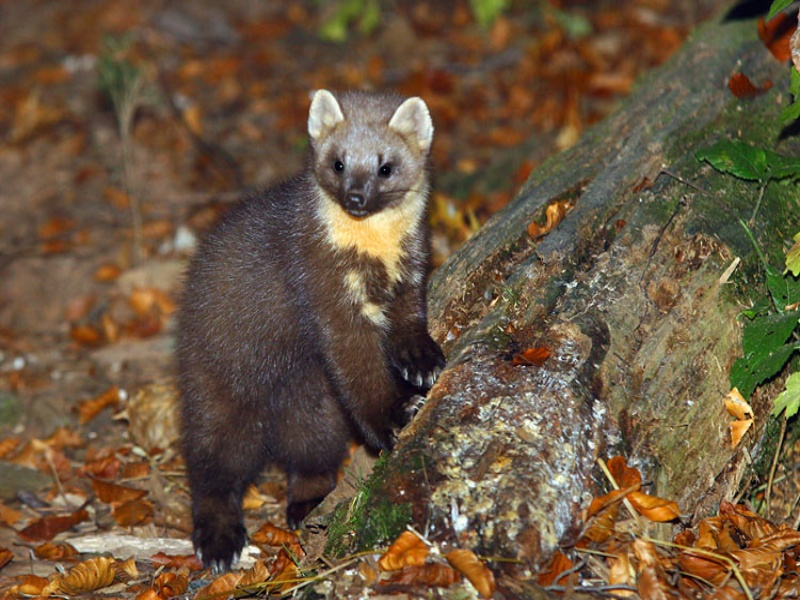minkish: (173, 82, 448, 580)
